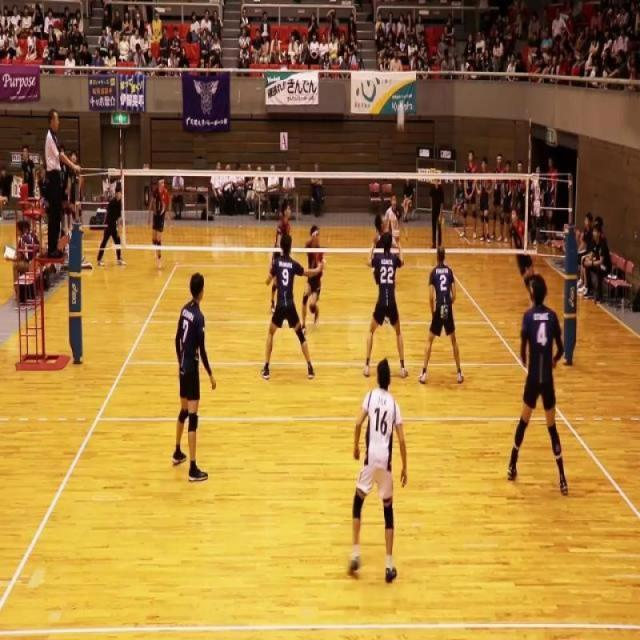volleyball: (397, 100, 405, 132)
